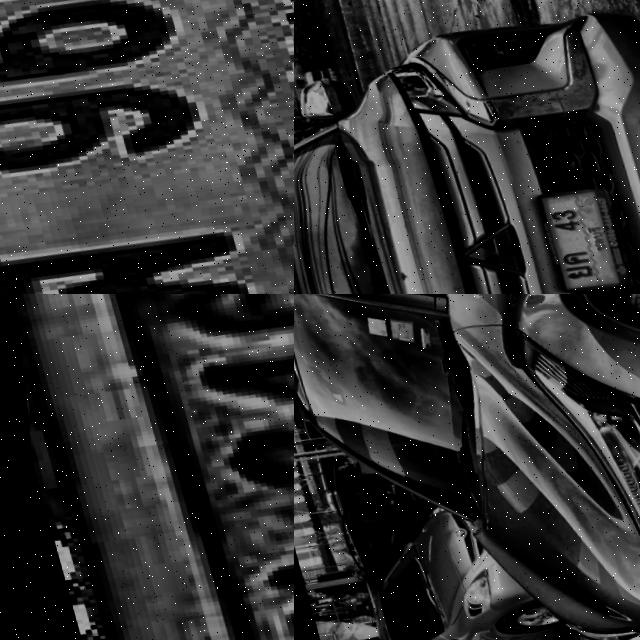license-plate: (0, 0, 294, 294), (52, 294, 294, 640), (524, 179, 623, 291)
